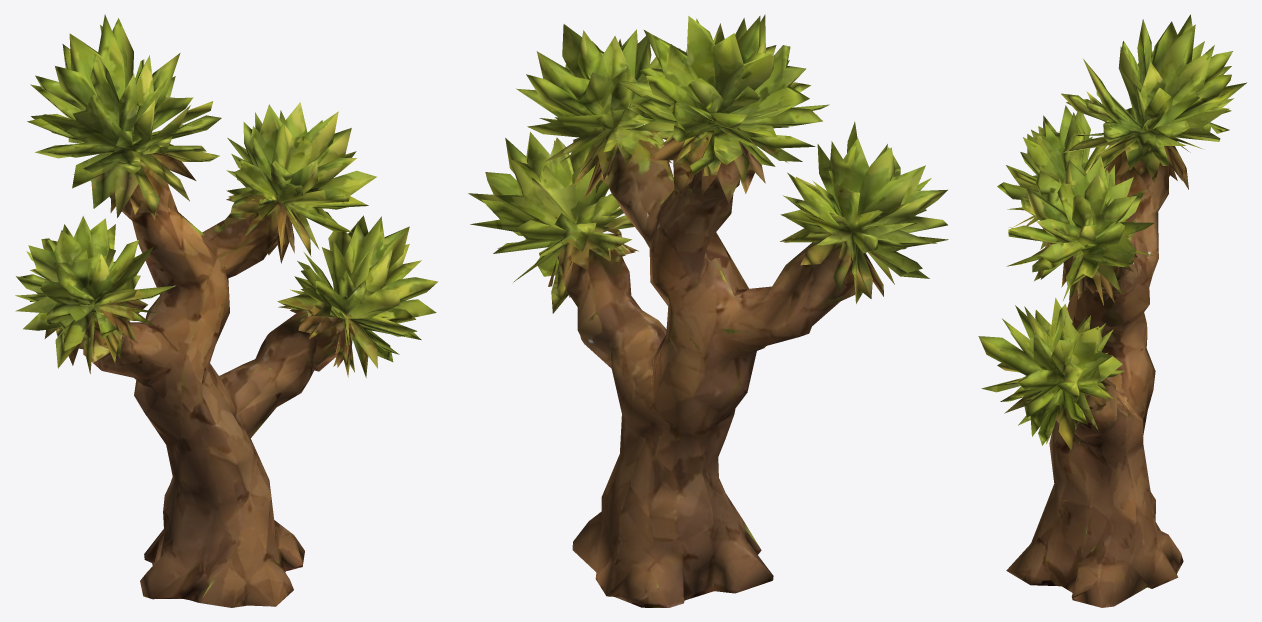
Rendered from tree_desert_joshua.glb.
The picture shows the model from 3 angles, left to right: view 1: azimuth 30°, elevation 25°; view 2: azimuth 150°, elevation 25°; view 3: azimuth 270°, elevation 25°; orthographic projection. The views are drawn at different scales.
Visible parts, largest first — view 1: BakeLow; view 2: BakeLow; view 3: BakeLow.
Part boxes in pixels (box(x1,y1,x2,y2)): BakeLow: box(15, 14, 437, 607); BakeLow: box(468, 14, 948, 607); BakeLow: box(978, 14, 1246, 607).
Bounding box in the file's own units: 0.7245 × 0.9097 × 0.4302.
1 material, 1 textured.
